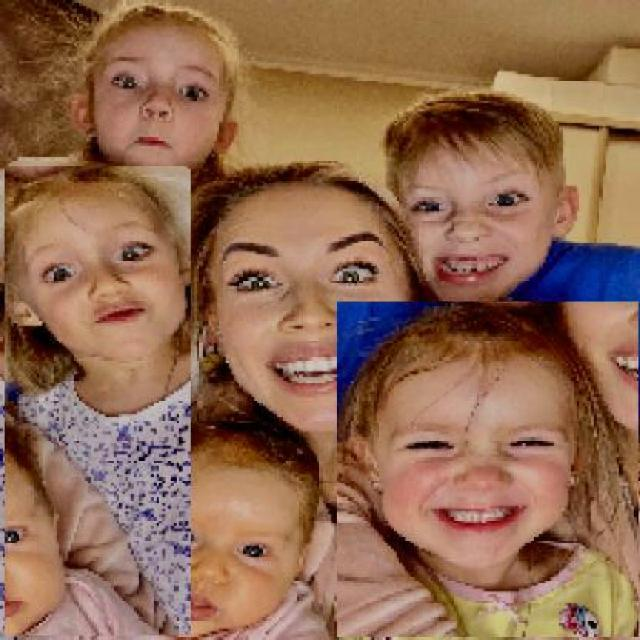child: (336, 302, 638, 638), (3, 166, 191, 637), (388, 86, 640, 384), (32, 408, 334, 638), (70, 4, 244, 167)
